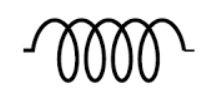inductor: (28, 14, 188, 84)
